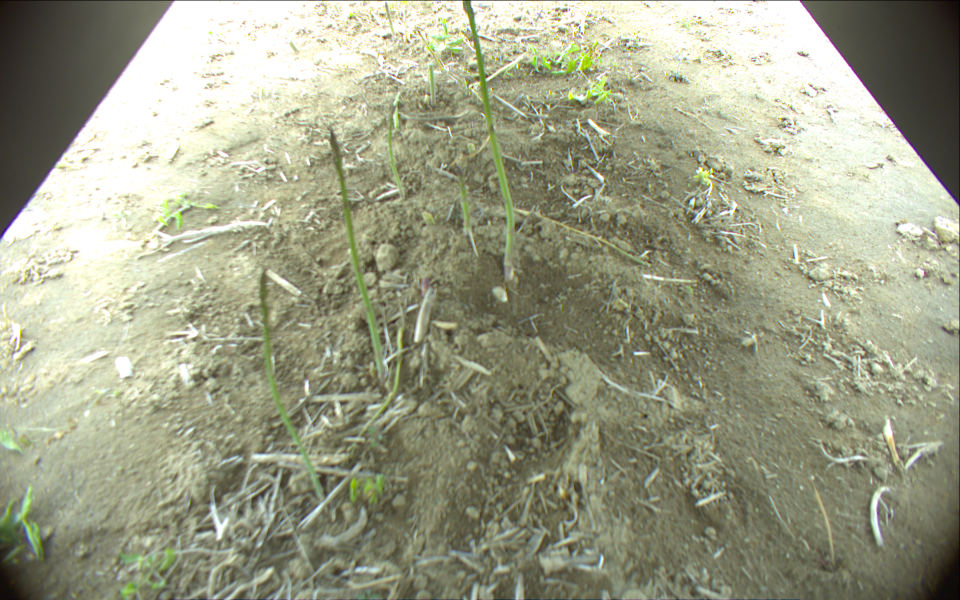aspa: (255, 266, 327, 503), (458, 1, 515, 280), (328, 130, 389, 382), (510, 205, 652, 270), (347, 326, 405, 450), (468, 50, 529, 90), (383, 130, 406, 197), (452, 162, 471, 235), (389, 90, 404, 132), (426, 62, 438, 105), (383, 1, 397, 32)
